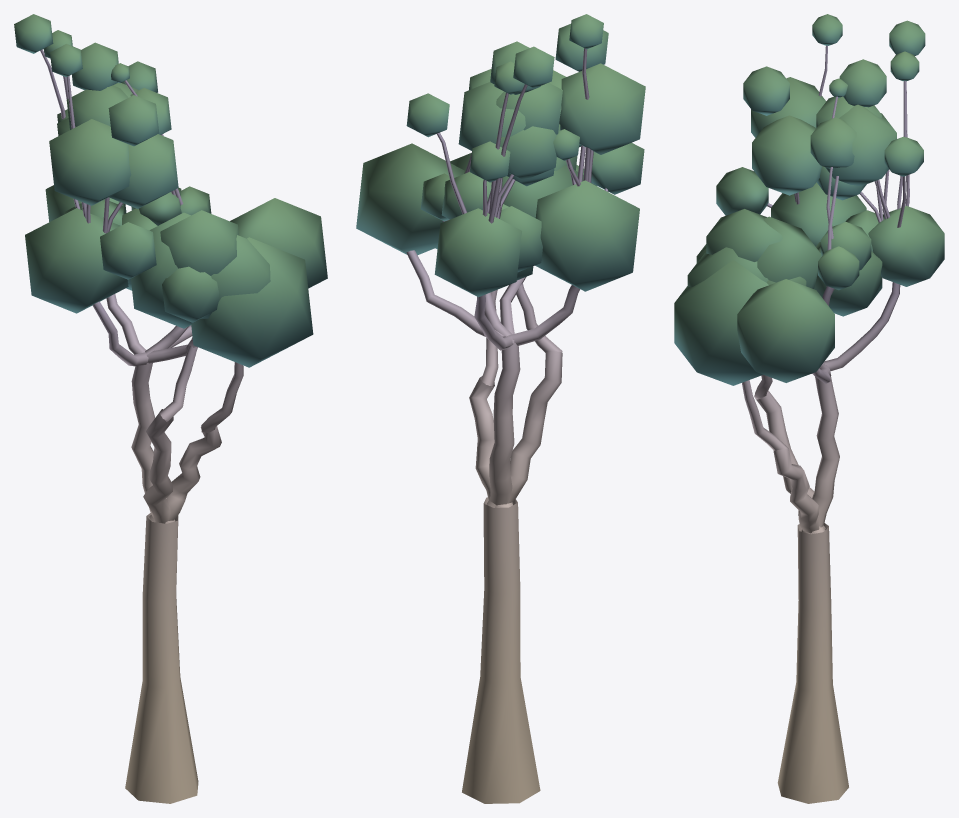
Rendered from seed_tree_j.glb.
The picture shows the model from 3 angles, left to right: view 1: azimuth 30°, elevation 25°; view 2: azimuth 150°, elevation 25°; view 3: azimuth 270°, elevation 25°; orthographic projection. The views are drawn at different scales.
Visible parts, largest first — view 1: seed_tree_j_LOD0; view 2: seed_tree_j_LOD0; view 3: seed_tree_j_LOD0.
Boxes of the visible parts, x1,y1,x2,y2 form: seed_tree_j_LOD0: (14,14,327,803); seed_tree_j_LOD0: (356,14,645,803); seed_tree_j_LOD0: (674,14,944,803).
Size of what is drawn, in the model's own units: 5.12 by 13.67 by 4.57.
